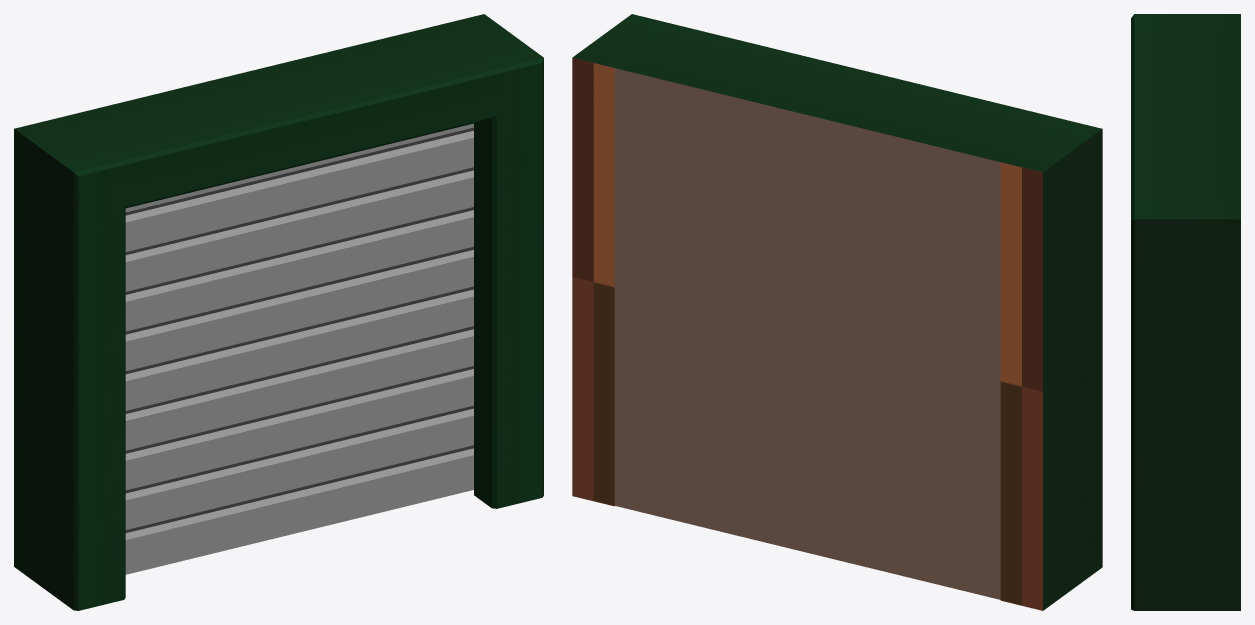
The model's file is FactoryGate.fbx.
3 views of the same model, side by side, from view 1: azimuth 30°, elevation 25°; view 2: azimuth 150°, elevation 25°; view 3: azimuth 270°, elevation 25° (orthographic). The views are drawn at different scales.
Visible parts, largest first — view 1: FactoryGate; view 2: FactoryGate; view 3: FactoryGate.
Boxes of the visible parts, <box> form: FactoryGate: <box>14,14,543,610</box>; FactoryGate: <box>572,14,1102,610</box>; FactoryGate: <box>1131,14,1240,610</box>.
Bounding box in the file's own units: 885 × 788 × 200.
